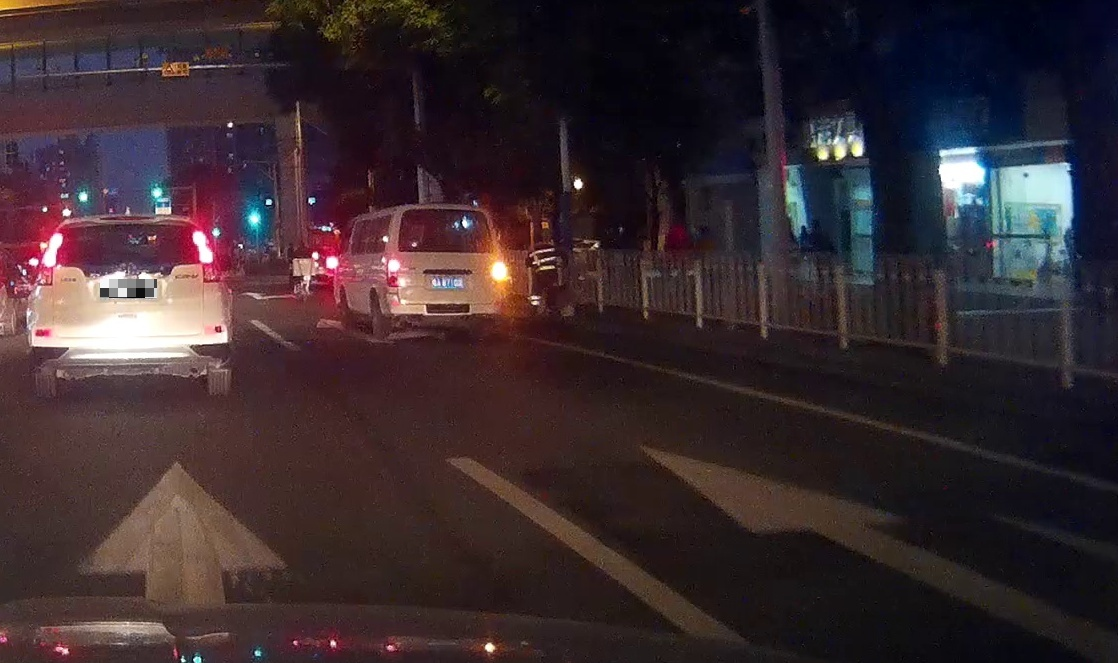L_light: (33, 232, 64, 286), (386, 259, 400, 287)
R_light: (192, 230, 223, 283), (490, 258, 506, 286)
T_light: (117, 223, 145, 231), (434, 209, 457, 215)
night-no: (26, 213, 229, 396)
night-right: (386, 204, 507, 338)
plate_1: (100, 279, 157, 298)
